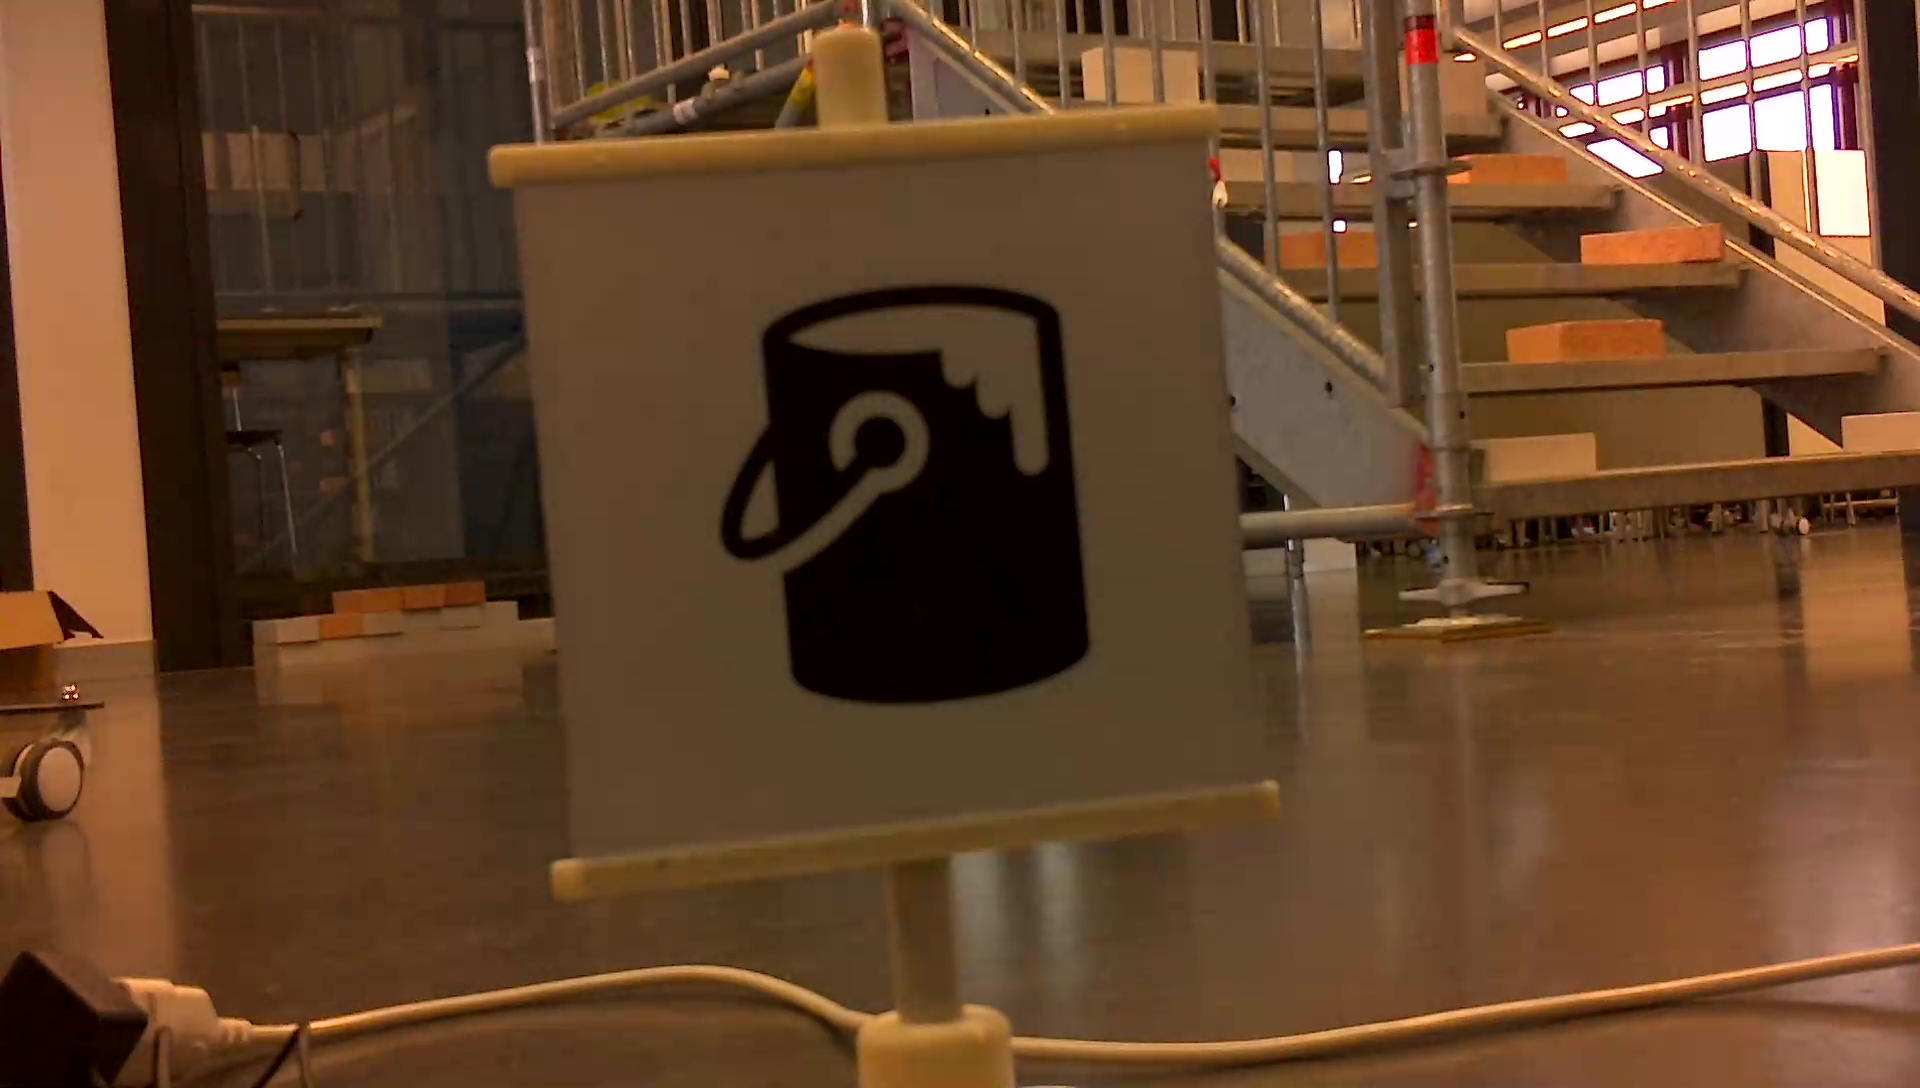brick: (1507, 320, 1658, 361), (1487, 433, 1594, 481), (1582, 226, 1721, 260), (1456, 154, 1560, 186), (1845, 411, 1917, 450), (1437, 61, 1481, 113)
bucket: (704, 270, 1102, 715)
edge: (1487, 450, 1917, 521), (1457, 343, 1886, 390), (1451, 258, 1756, 291), (1440, 179, 1627, 207), (1437, 112, 1513, 137)
